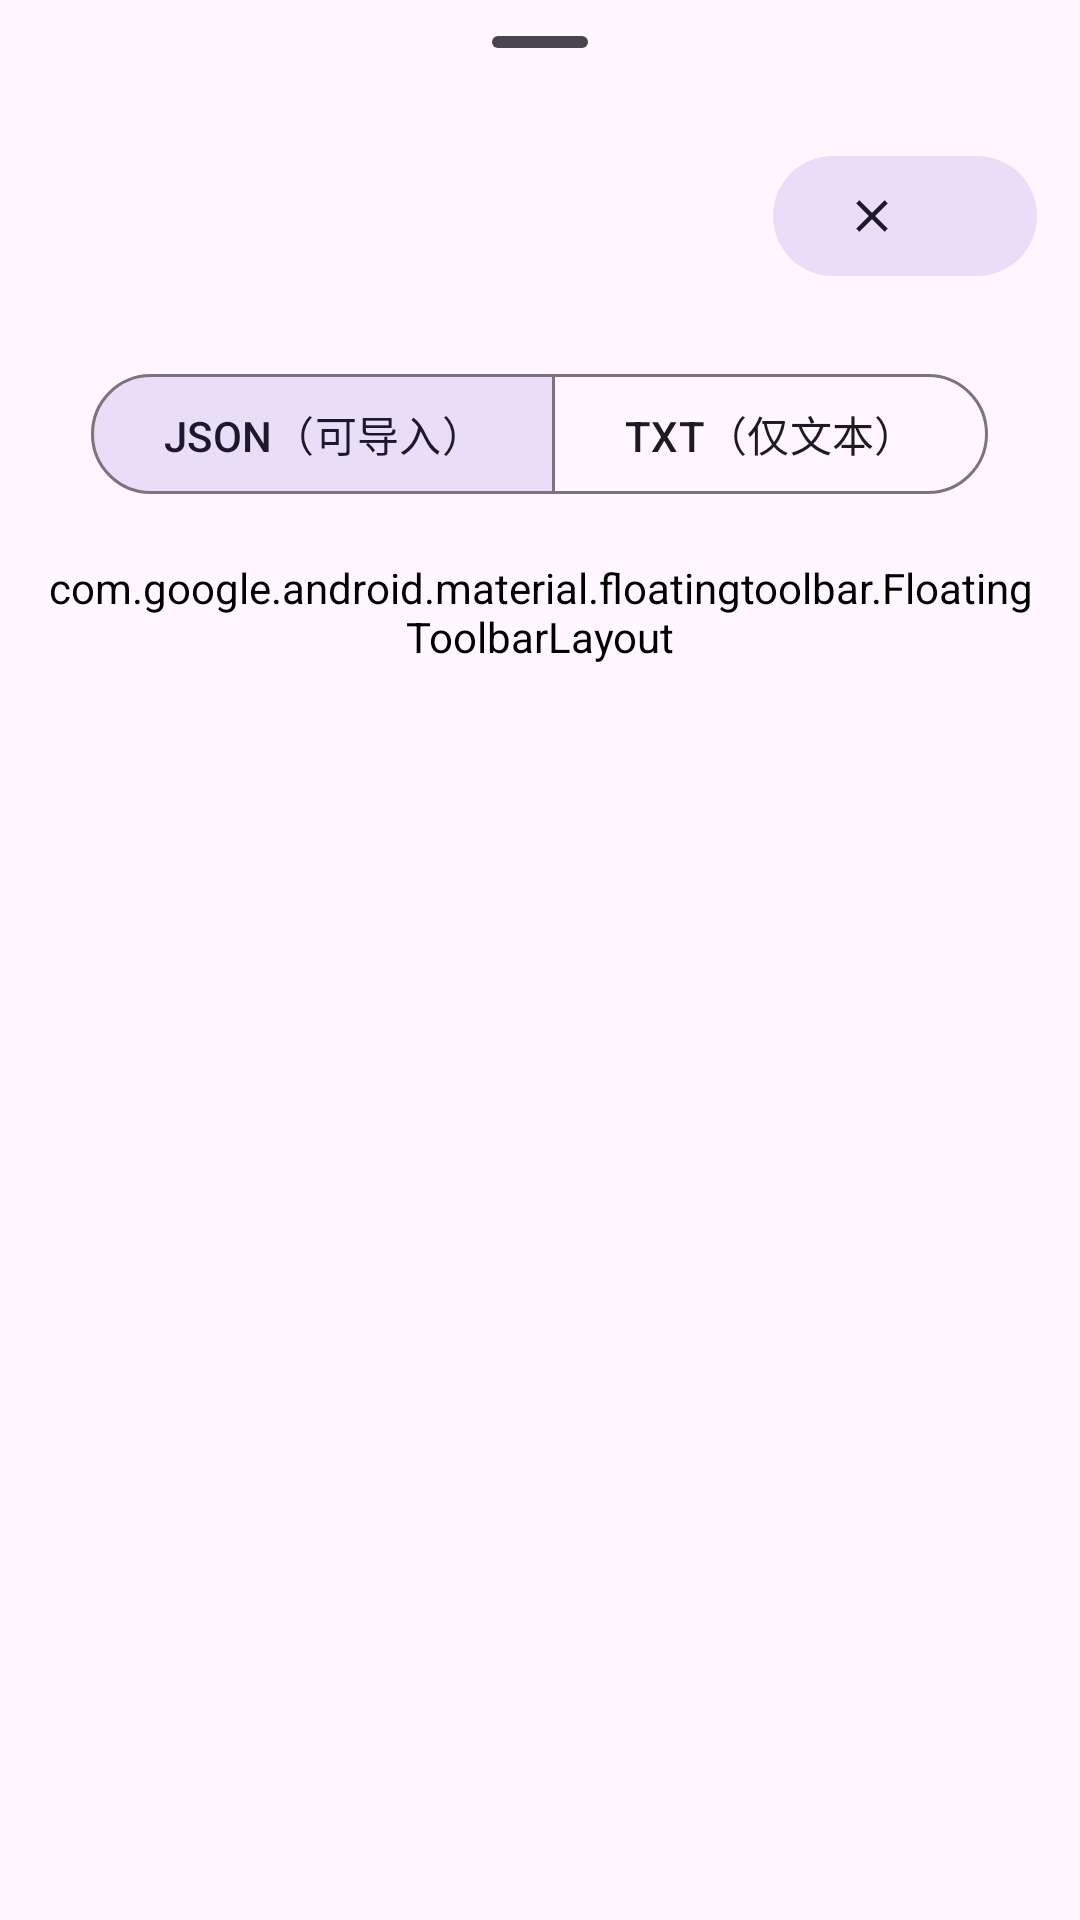

Point at icon controls on the screen. Image size 1080px×1920px, points as (x,y).
关闭: (905,216)
